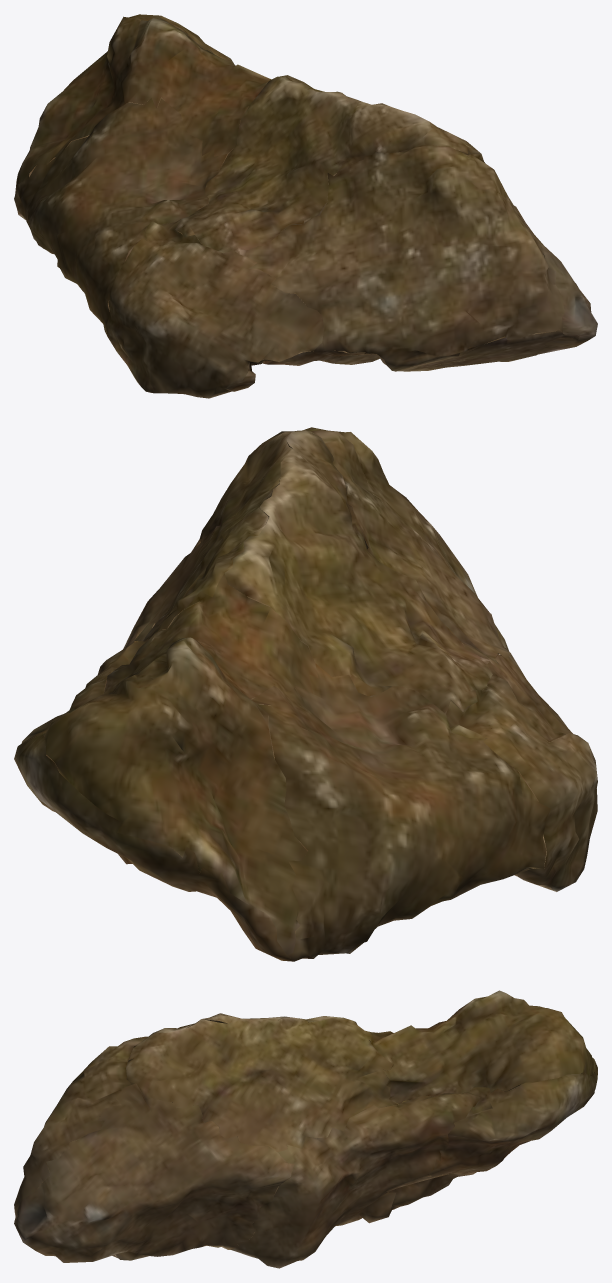
Rendered from rock_moss_set_01_0.glb.
3 renders of one model, top to bottom at view 1: azimuth 30°, elevation 25°; view 2: azimuth 150°, elevation 25°; view 3: azimuth 270°, elevation 25°, orthographic. The views are drawn at different scales.
Visible parts, largest first — view 1: rock_moss_set_01_rock01; view 2: rock_moss_set_01_rock01; view 3: rock_moss_set_01_rock01.
Part boxes in pixels (x1,y1,x2,y2): rock_moss_set_01_rock01: (14,14,597,398); rock_moss_set_01_rock01: (14,427,597,961); rock_moss_set_01_rock01: (14,990,597,1268).
Size of the model in its own units: 2.24 by 1.47 by 3.37.
1 material, 1 textured.
